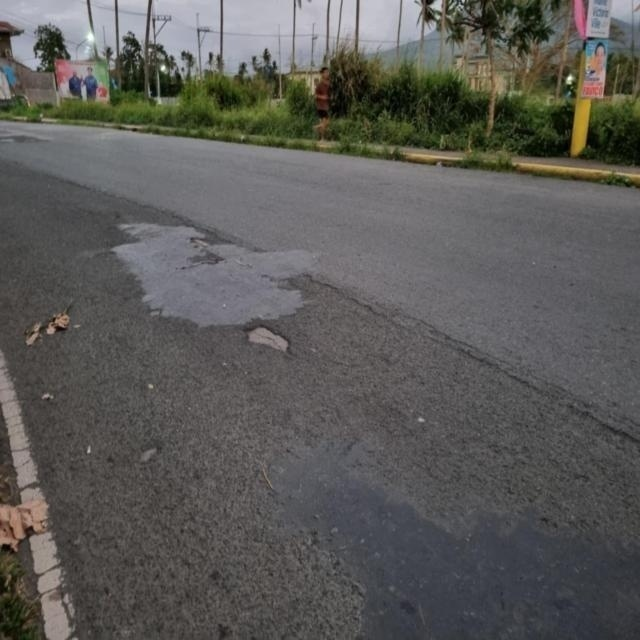pothole: (214, 319, 318, 377)
